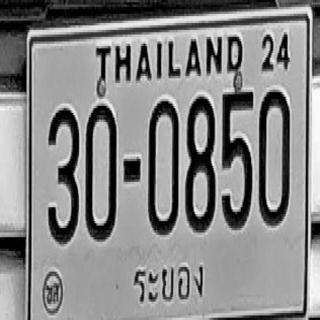N00: (258, 89, 290, 227), (85, 102, 116, 241), (148, 99, 178, 235)
N03: (48, 106, 79, 244)
N05: (221, 86, 254, 229)
N08: (185, 94, 215, 233)
P53: (128, 252, 211, 311)
